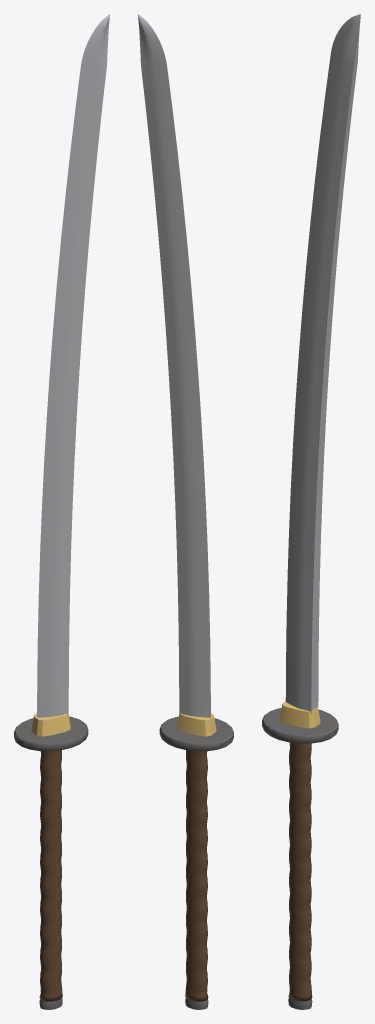
The model's file is nodachi.glb.
The picture shows the model from 3 angles, left to right: view 1: azimuth 30°, elevation 25°; view 2: azimuth 150°, elevation 25°; view 3: azimuth 330°, elevation 25°; orthographic projection. The views are drawn at different scales.
Visible parts, largest first — view 1: nodachi; view 2: nodachi; view 3: nodachi.
Part boxes in pixels (<box>): nodachi: <box>14,14,109,1009</box>; nodachi: <box>138,14,233,1009</box>; nodachi: <box>262,14,360,1009</box>.
Bounding box in the file's own units: 0.3175 × 3.25 × 0.1975.
